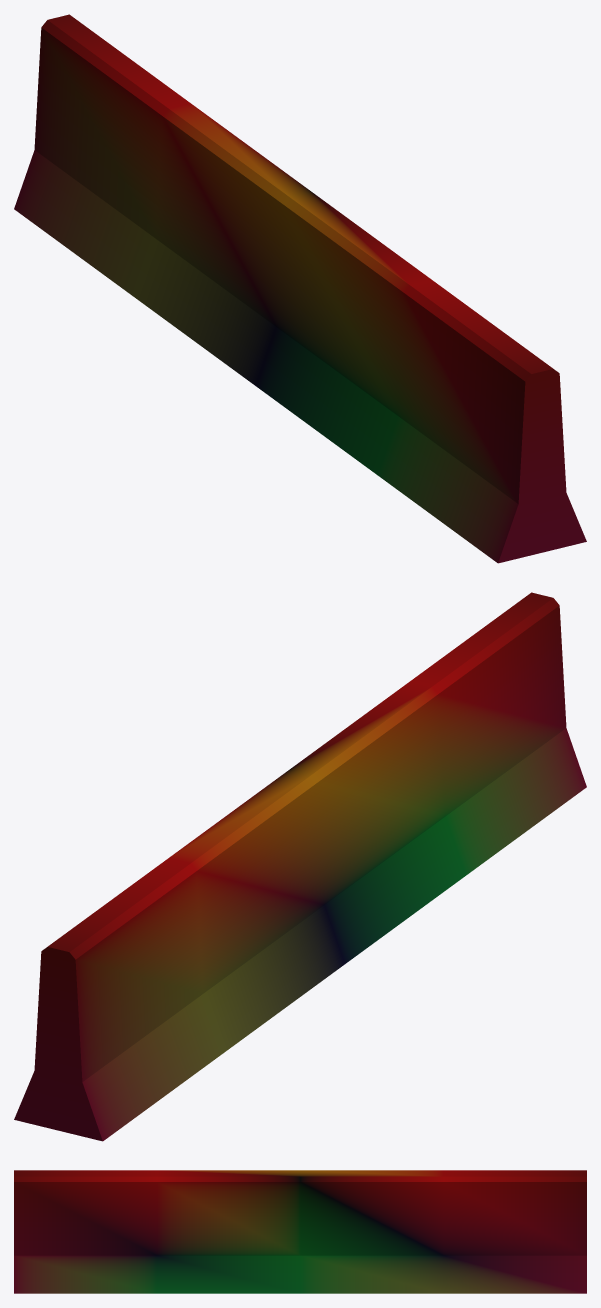
Rendered from Road_Barrier_Concrete_Clean.fbx.
3 views of the same model, one above another, from view 1: azimuth 30°, elevation 25°; view 2: azimuth 150°, elevation 25°; view 3: azimuth 270°, elevation 25° (orthographic). The views are drawn at different scales.
Parts seen in each view (by area): view 1: Road_Barrier_Concrete_Clean; view 2: Road_Barrier_Concrete_Clean; view 3: Road_Barrier_Concrete_Clean.
Boxes of the visible parts, x1,y1,x2,y2 form: Road_Barrier_Concrete_Clean: [14, 14, 586, 563]; Road_Barrier_Concrete_Clean: [14, 592, 586, 1141]; Road_Barrier_Concrete_Clean: [14, 1170, 586, 1293].
Bounding box in the file's own units: 0.4537 × 0.883 × 4.28.
